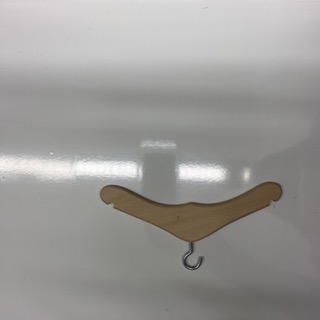rack: (100, 181, 285, 271)
